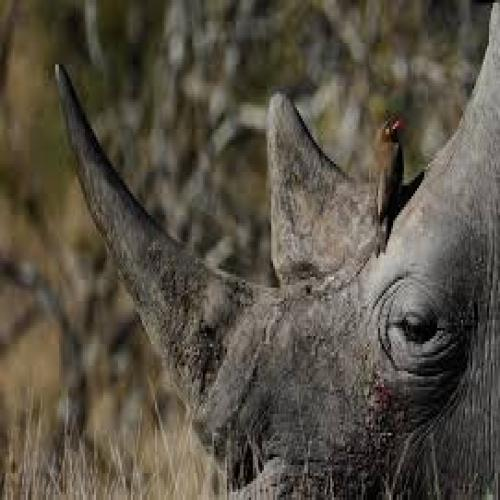rhino-endangered: (54, 13, 490, 488)
